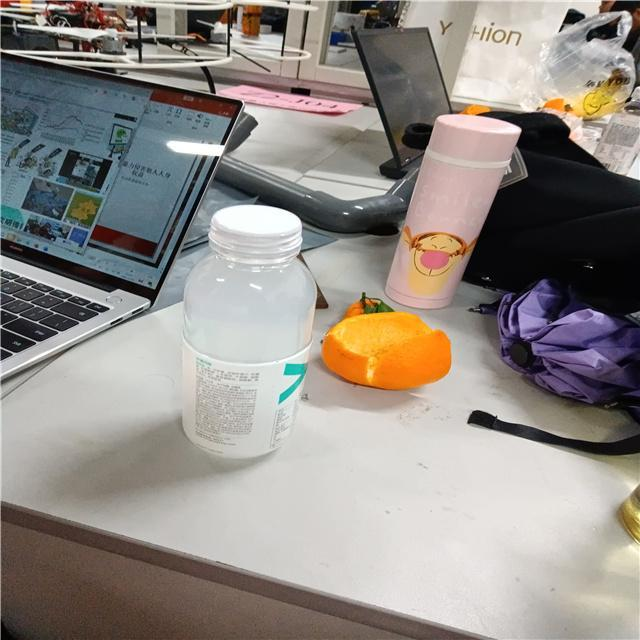orange-peel: (319, 307, 452, 391)
